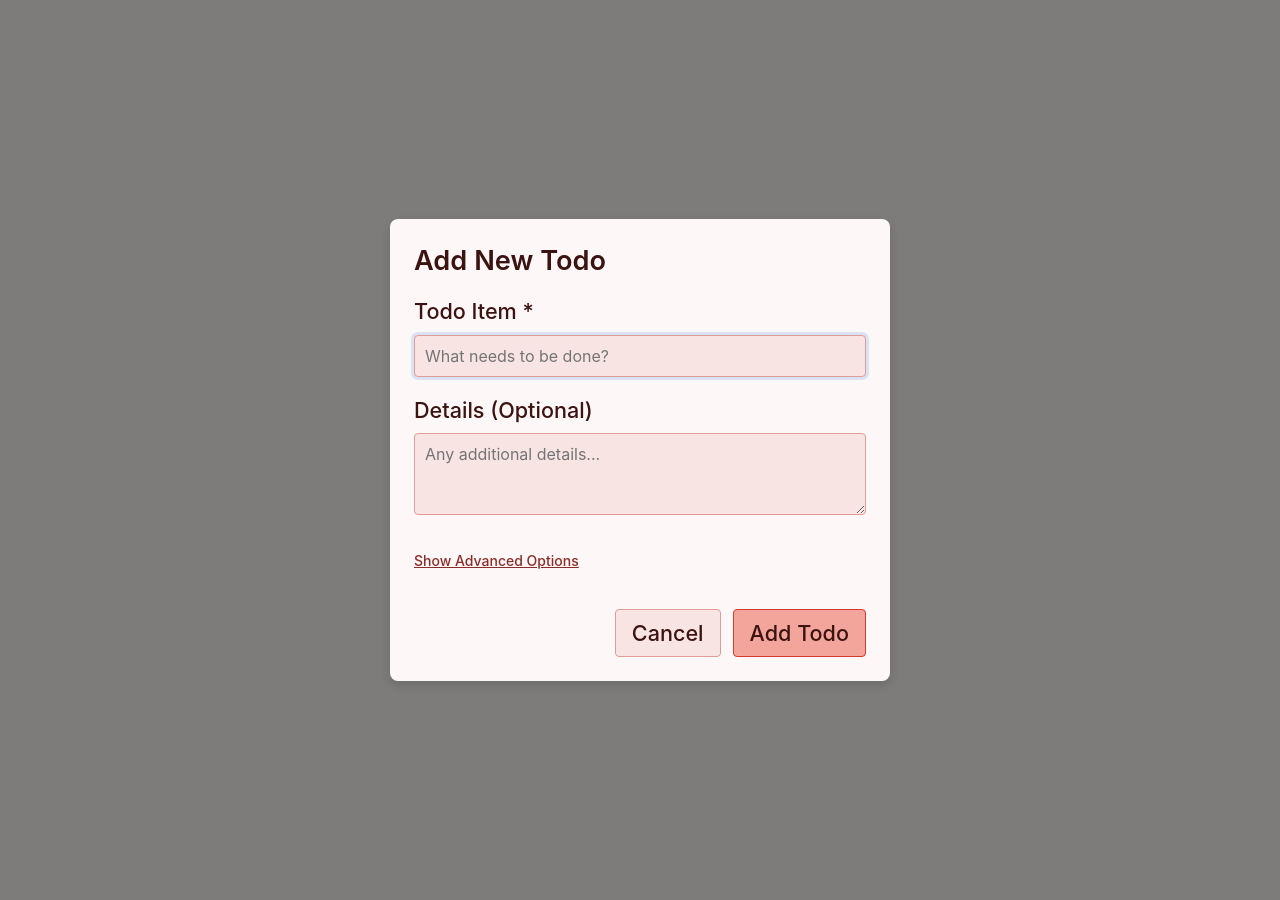
Scenario: AddTodoDialog.svelte › should show advanced options when advanced toggle is clicked
This screenshot has width=1280, height=900.
Expected: the text "Must be completed by" is not shown
// Click advanced options toggle
Step 1. Click the button "Show Advanced Options" → {"x": 496, "y": 560}, box 414,552 -> 579,569
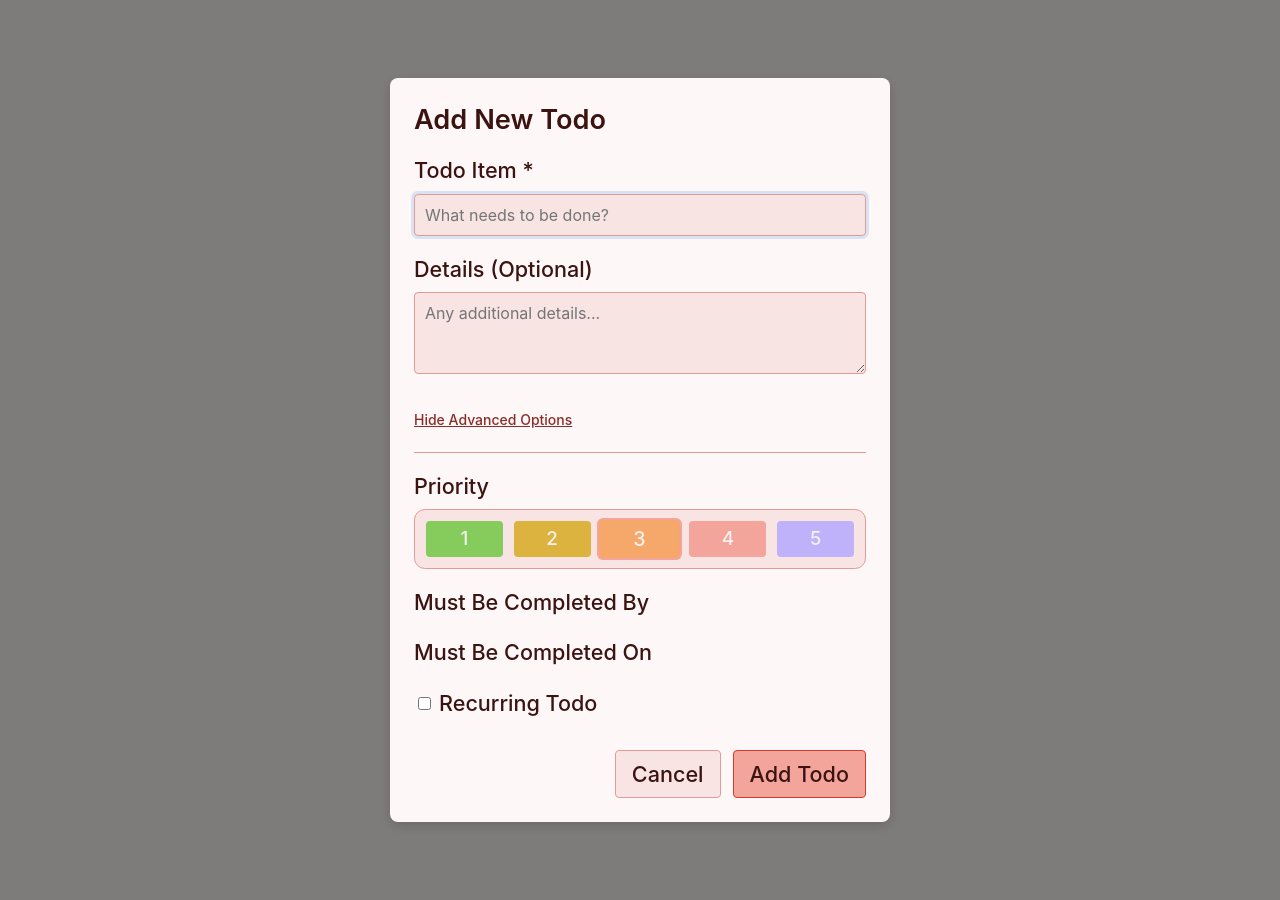
Result: the text "Must Be Completed By" is shown at 414,589 -> 649,615
Result: the text "Must Be Completed On" is shown at 414,639 -> 652,665
Result: the text "Recurring Todo" is shown at 414,686 -> 597,720
